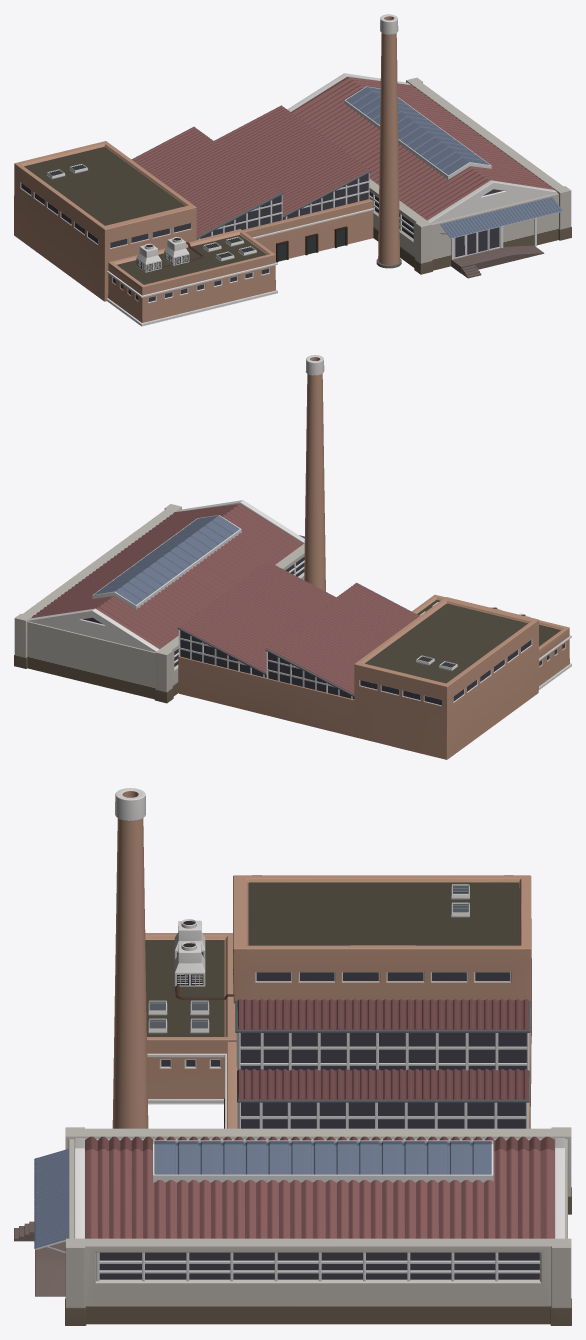
File: Factory Complex.glb
3 renders of one model, top to bottom at view 1: azimuth 30°, elevation 25°; view 2: azimuth 150°, elevation 25°; view 3: azimuth 270°, elevation 25°, orthographic. The views are drawn at different scales.
Visible parts, largest first — view 1: factory.1; view 2: factory.1; view 3: factory.1.
Part boxes in pixels (box(x1,y1,x2,y2)): factory.1: box(14, 14, 571, 326); factory.1: box(14, 355, 571, 759); factory.1: box(14, 788, 571, 1325).
Size of the model in its own units: 18.73 by 10.55 by 13.27.
1 material, 1 textured.
